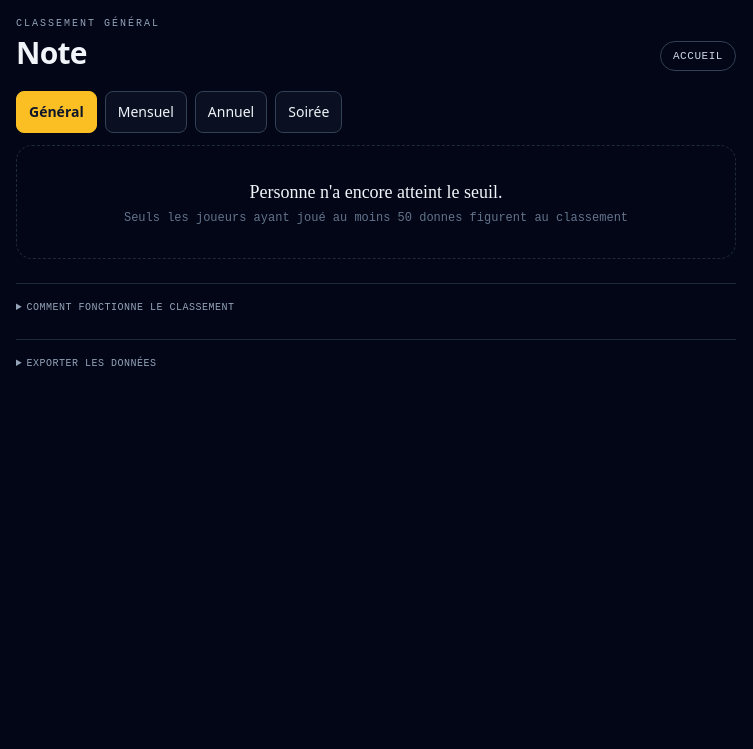
Test case: Classements mensuel et annuel › affiche le palmarès des champions de la saison
What coordinates should you click on to do the following:
click the button "Mensuel"
I would click on:
 (146, 112)
Its box is [105,91,187,133].
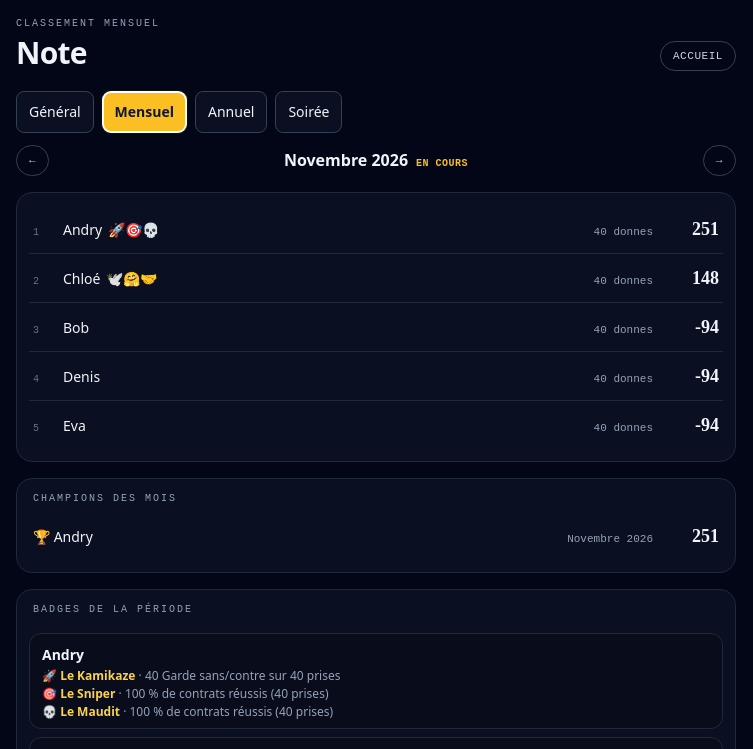
Now the number of buttons with test id "champion-row" is 1, box [29,512,723,560]
Now the text "🏆 Andry" is shown, box [33,526,93,546]
